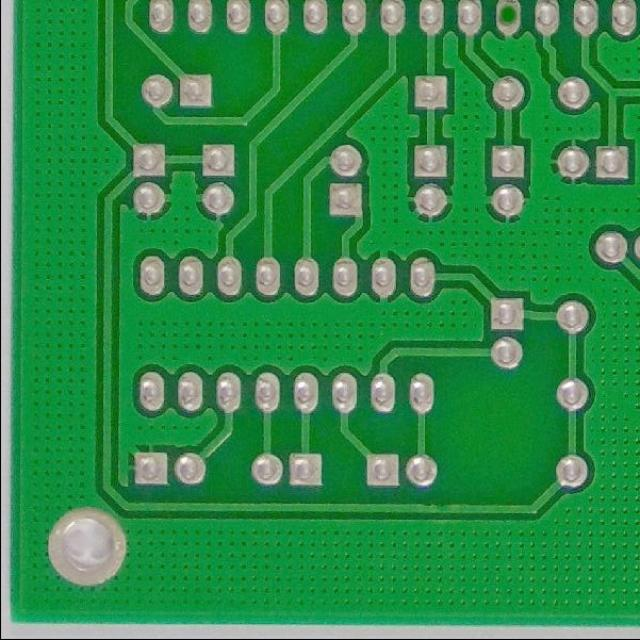missing_hole: (488, 1, 526, 39)
